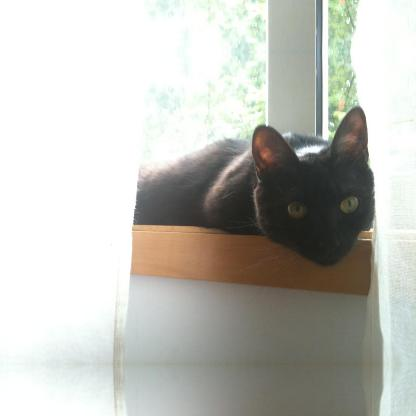Cat: (134, 106, 376, 306)
